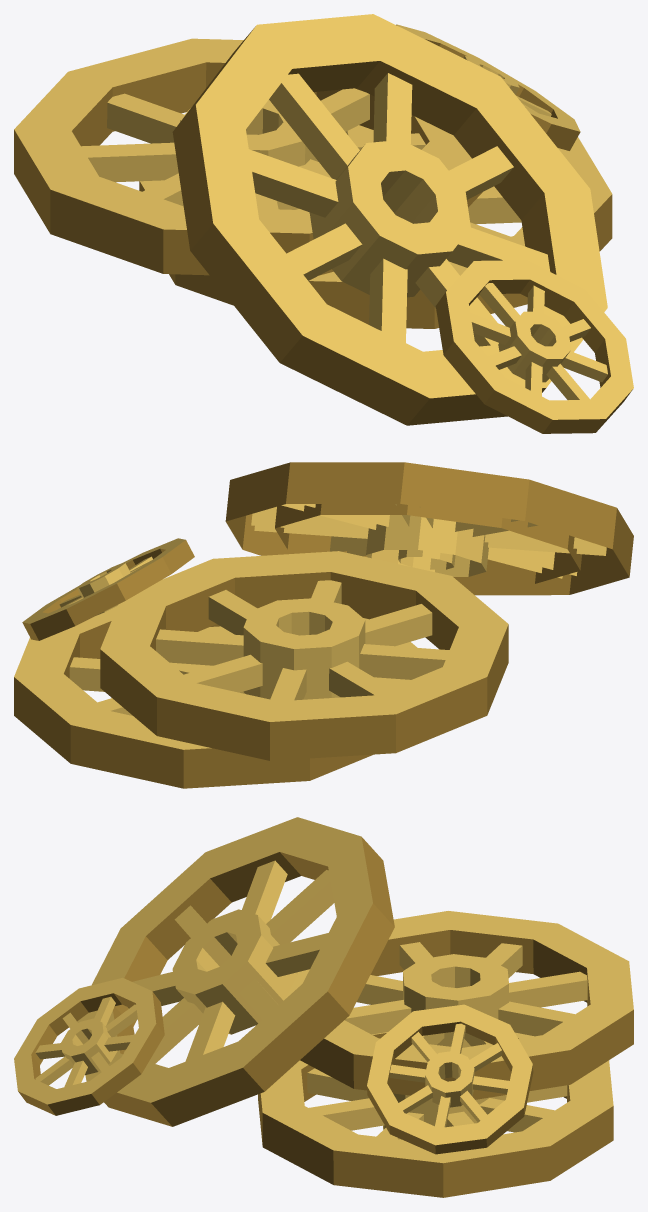
3 renders of one model, top to bottom at view 1: azimuth 30°, elevation 25°; view 2: azimuth 150°, elevation 25°; view 3: azimuth 270°, elevation 25°, orthographic. The views are drawn at different scales.
Parts seen in each view (by area): view 1: 1; view 2: 1; view 3: 1.
Part boxes in pixels (bbox=[...]): 1: bbox=[14, 14, 633, 433]; 1: bbox=[14, 462, 633, 788]; 1: bbox=[14, 817, 633, 1197].
Bounding box in the file's own units: 1.07 × 0.582 × 1.41.
